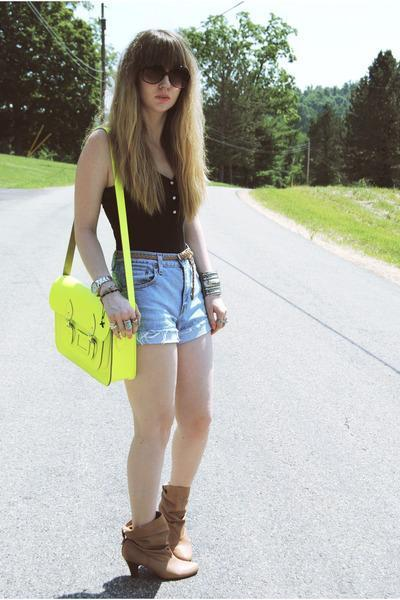bag: (49, 178, 136, 385)
shirt: (100, 180, 184, 251)
shoe: (121, 485, 195, 580)
shorts: (97, 243, 207, 347)
sunglass: (137, 56, 191, 99)
